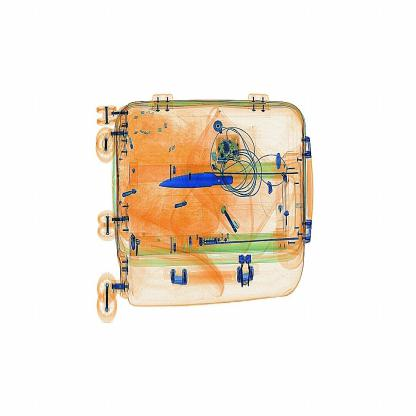wrench: (153, 162, 260, 192)
